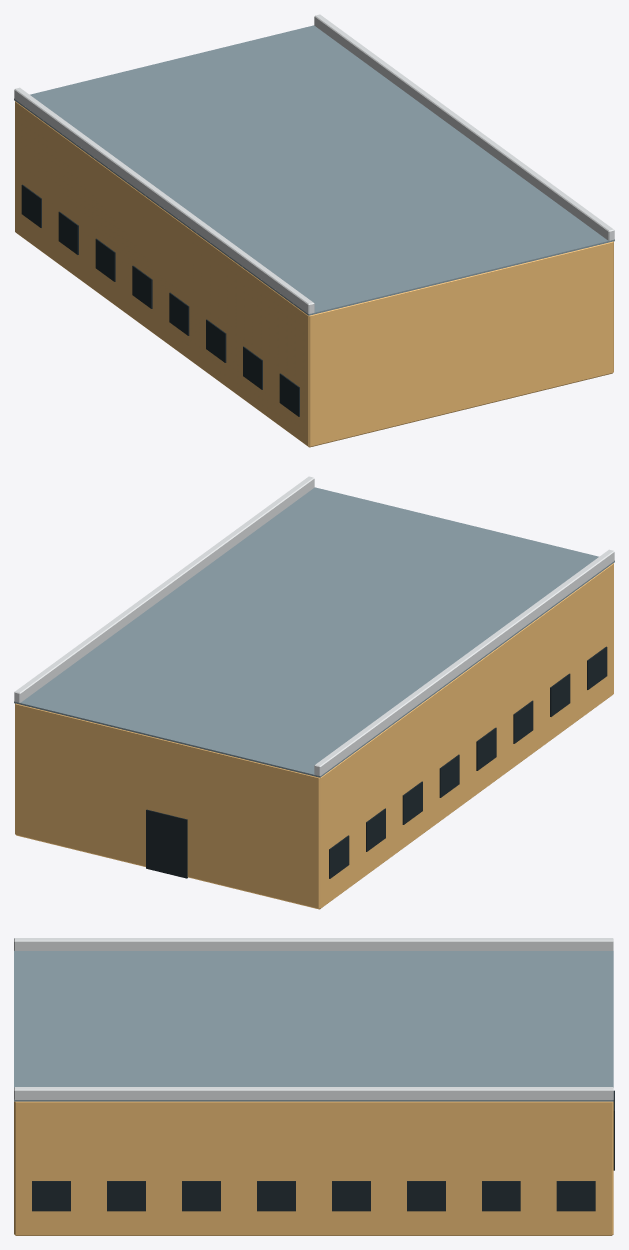
The model's file is predio_alvo.glb.
3 renders of one model, top to bottom at view 1: azimuth 30°, elevation 25°; view 2: azimuth 150°, elevation 25°; view 3: azimuth 270°, elevation 25°, orthographic.
Visible parts, largest first — view 1: predio_alvo; view 2: predio_alvo; view 3: predio_alvo.
Boxes of the visible parts, left/top/right/bottom form: predio_alvo: left=14, top=14, right=614, bottom=447; predio_alvo: left=14, top=476, right=614, bottom=909; predio_alvo: left=14, top=938, right=614, bottom=1235.
Size of the model in its own units: 12.08 by 5.4 by 20.04.
